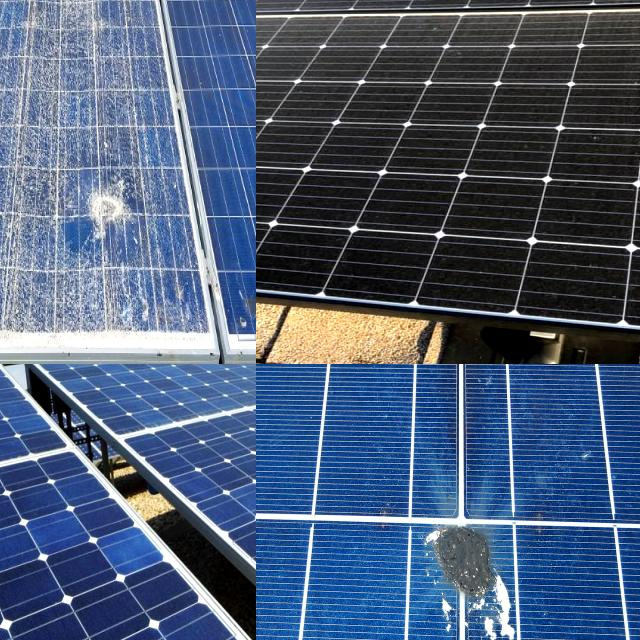bird: (400, 514, 532, 640)
crack: (321, 35, 640, 205), (256, 102, 486, 277), (293, 0, 640, 79), (256, 0, 640, 65), (0, 502, 165, 640), (34, 364, 256, 463), (0, 366, 130, 526), (547, 143, 640, 322), (202, 454, 256, 554)
hotspot: (81, 164, 151, 266)
